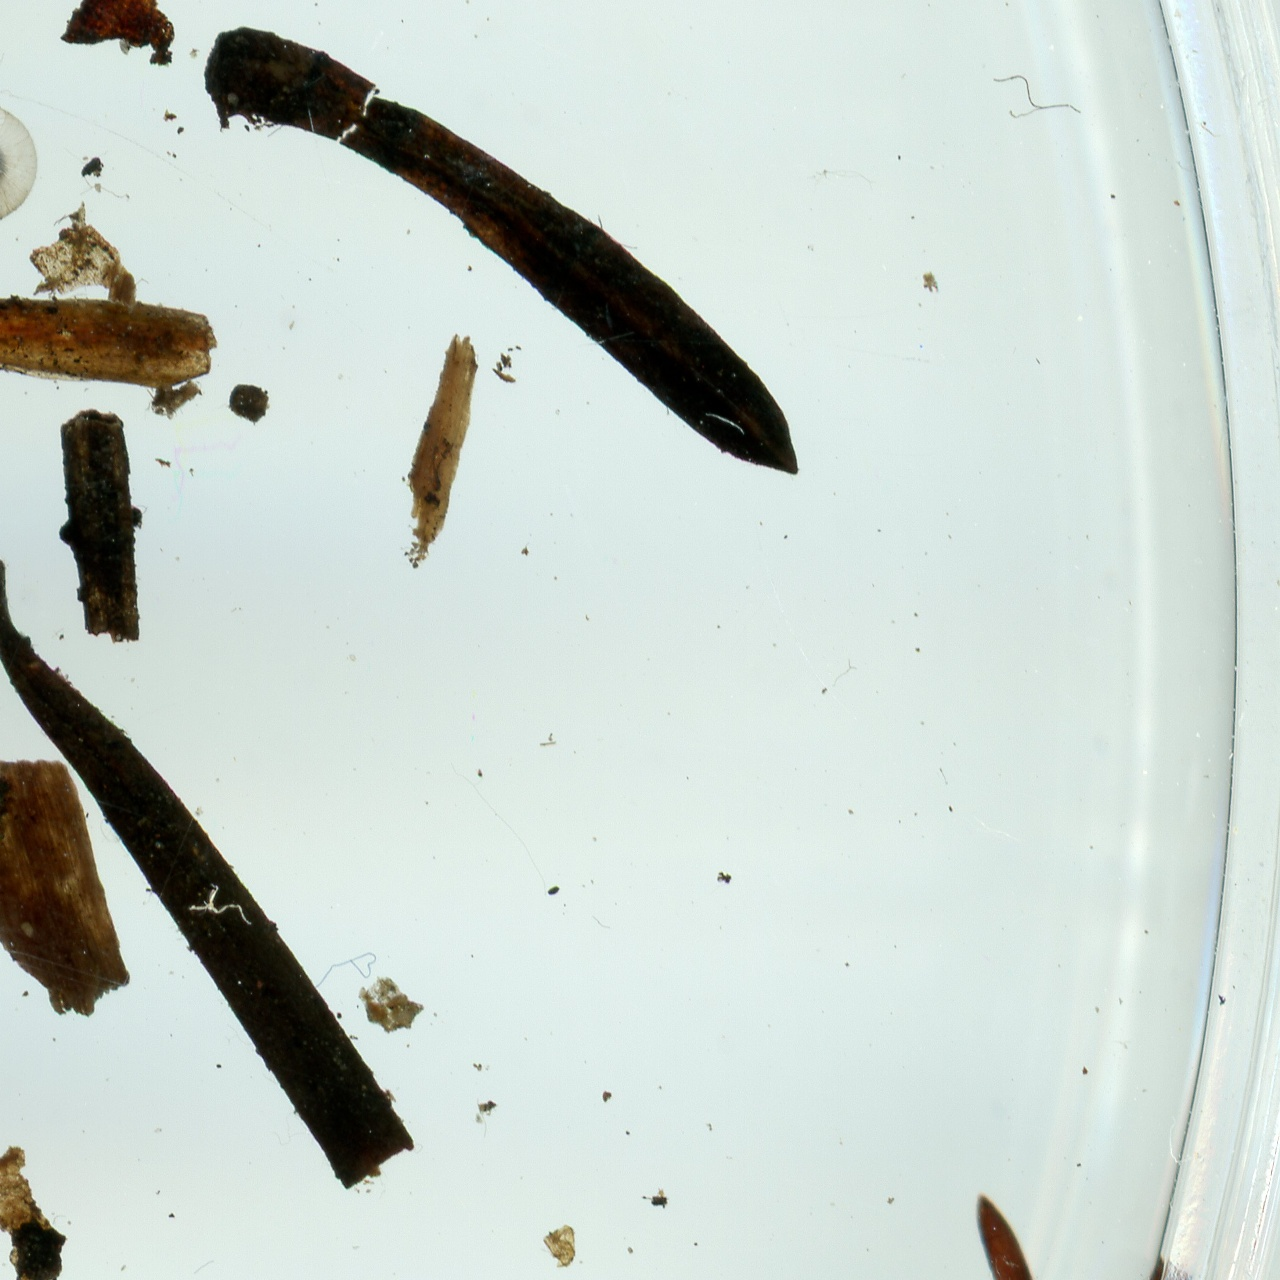arthropod: (0, 100, 43, 227)
